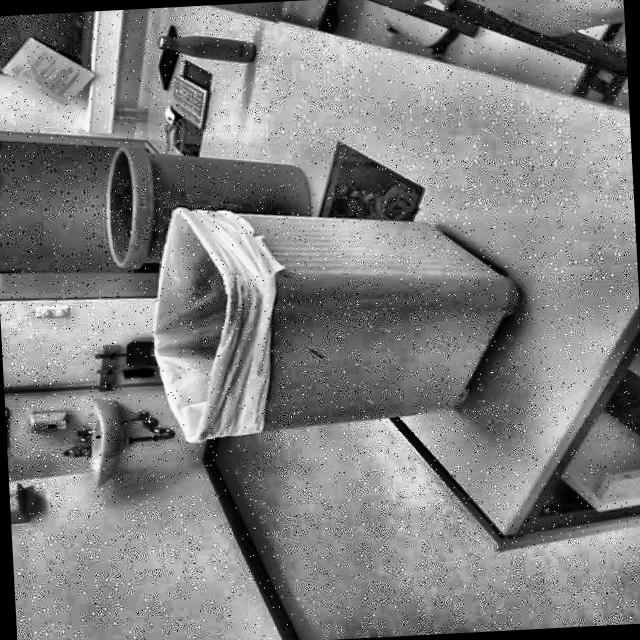Dustbin: (68, 189, 530, 476)
